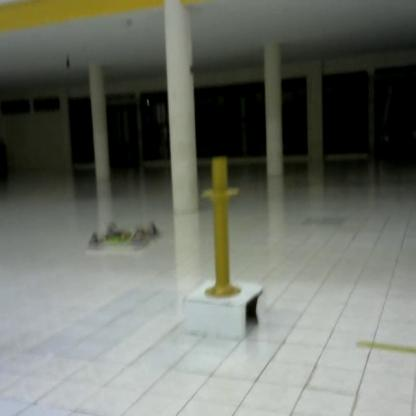pole: (195, 155, 246, 304)
